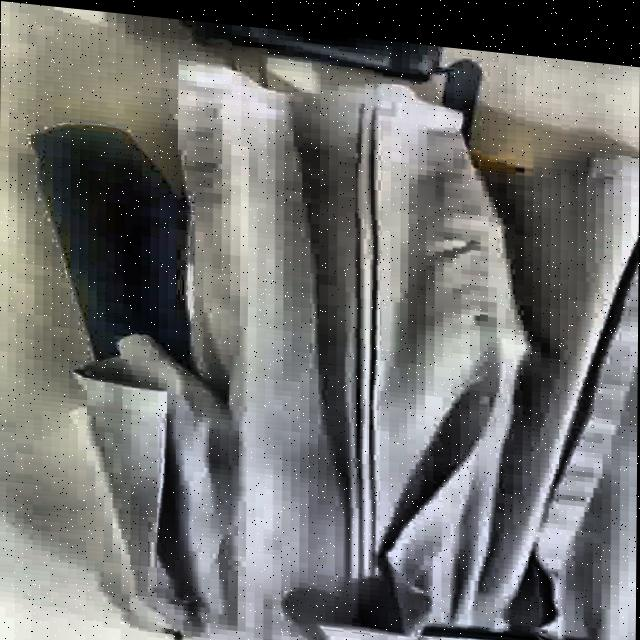clothes: (61, 23, 630, 640)
